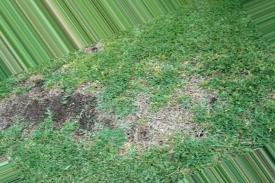patch: (135, 93, 203, 147), (17, 94, 92, 122)
